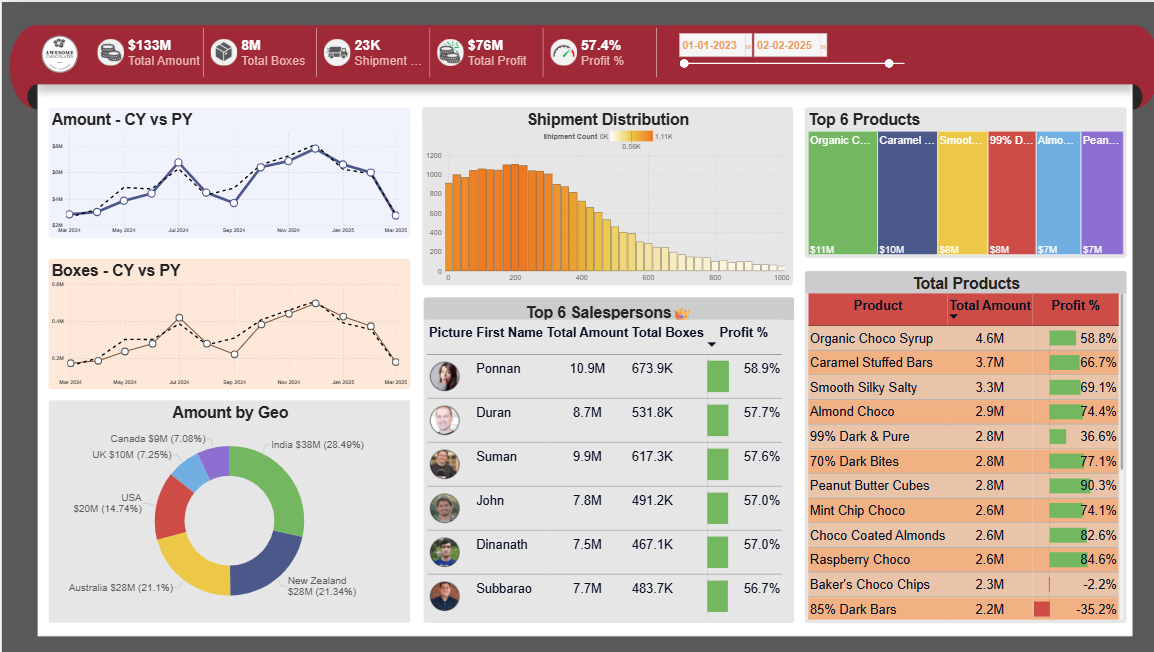

The dashboard page shown, as its layout file describes it:
{"tool":"powerbi","page":{"name":"BI Report","canvas":[3500,2000],"ordinal":0},"visuals":[{"type":"lineChart","title":"Amount - CY vs PY","fields":{"Y":["shipments.Total Amount","shipments.Total Amount (last year)"],"Category":["calendar.Start of Month"]},"box":[138.8,315.2,1088.1,394],"z":0},{"type":"lineChart","title":"Boxes - CY vs PY","fields":{"Category":["calendar.Start of Month"],"Y":["shipments.Total Boxes","shipments.Total Boxes (last year)"]},"box":[138.8,769.2,1088.1,394],"z":1000},{"type":"donutChart","title":"Amount by Geo","fields":{"Category":["locations.Geo"],"Y":["shipments.Total Amount"]},"box":[138.8,1193.2,1088.1,671.6],"z":2000},{"type":"clusteredColumnChart","title":"Shipment Distribution","fields":{"Y":["shipments.Shipment Count"],"Category":["shipments.Boxes (bins)"]},"box":[1260.7,315.2,1114.4,536.6],"z":3000},{"type":"tableEx","title":"Top 6 Salespersons👑","fields":{"Values":["people.Picture","people.First Name","shipments.Total Amount","shipments.Total Boxes","shipments.Profit %"]},"box":[1264.5,885.5,1114.4,979.3],"z":4000},{"type":"treemap","title":"Top 6 Products","fields":{"Values":["shipments.Total Amount"],"Group":["products.Product"]},"box":[2408.9,315.2,968.1,454],"z":5000},{"type":"tableEx","title":"Total Products","fields":{"Values":["products.Product","shipments.Total Amount","shipments.Profit %"]},"box":[2408.9,806.7,968.1,1058.1],"z":6000},{"type":"cardVisual","fields":{"Data":["shipments.Total Amount","shipments.Total Boxes","shipments.Shipment Count","shipments.Total Profit","shipments.Profit %"]},"box":[258.9,60,1726,183.9],"z":7000},{"type":"slicer","fields":{"Values":["calendar.cal_date"]},"box":[2014.9,78.8,720.4,150.1],"z":8000}]}

Visuals, with their boxes in screenshot pixels (x1, y1, x2, y2), scaled from the page's 3500x2000 canvas onto the 1154x652 screenshot:
"Amount - CY vs PY" lineChart: region(46, 103, 405, 231)
"Boxes - CY vs PY" lineChart: region(46, 251, 405, 379)
"Amount by Geo" donutChart: region(46, 389, 405, 608)
"Shipment Distribution" clusteredColumnChart: region(416, 103, 783, 278)
"Top 6 Salespersons👑" tableEx: region(417, 289, 784, 608)
"Top 6 Products" treemap: region(794, 103, 1113, 251)
"Total Products" tableEx: region(794, 263, 1113, 608)
cardVisual - shipments.Total Amount x shipments.Total Boxes: region(85, 20, 654, 80)
slicer - calendar.cal_date: region(664, 26, 902, 75)
